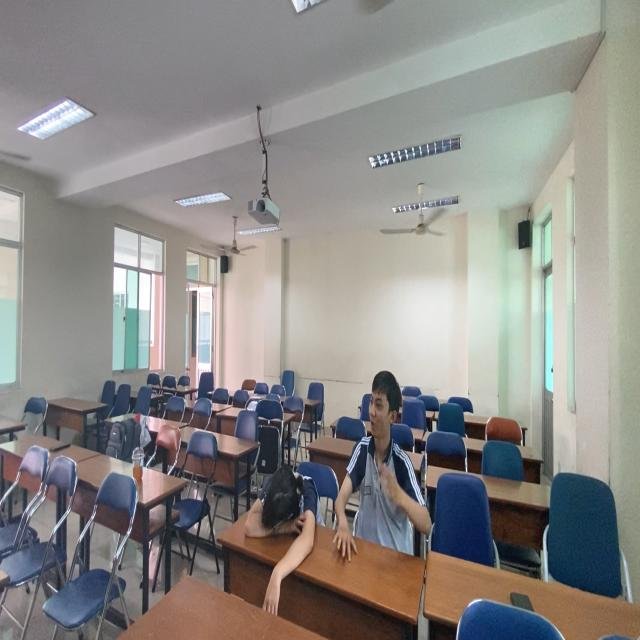sleep: (240, 454, 324, 569)
